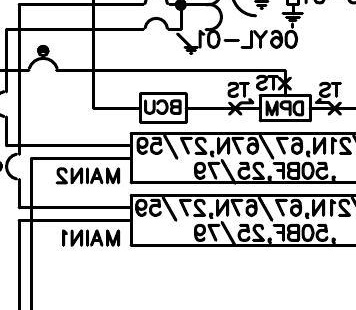BCU: (138, 91, 189, 125)
DPM: (259, 93, 313, 123)
